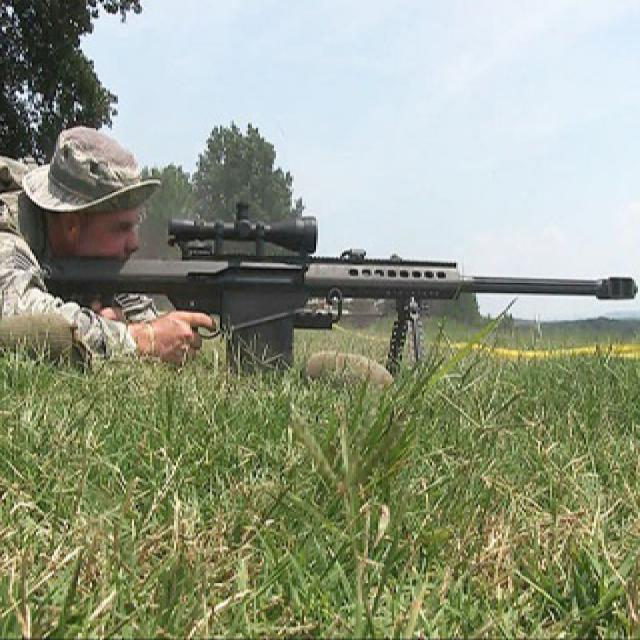long weapon: (34, 201, 638, 374)
